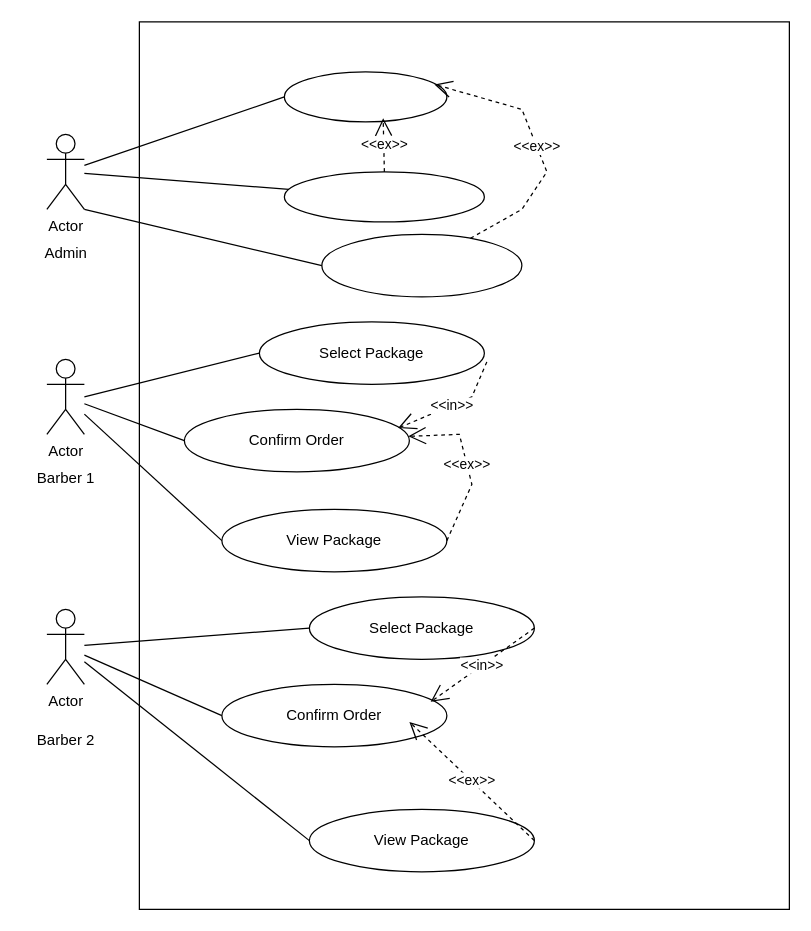
The diagram is 811 pixels wide and 931 high, and some of its shapes have lost their labels. The box of each missing label's shape, as (x1, y1, x2, y2) in pixels:
Manage Package: (283, 71, 447, 122)
User Authentication: (321, 233, 522, 297)
View Record: (283, 171, 484, 222)
